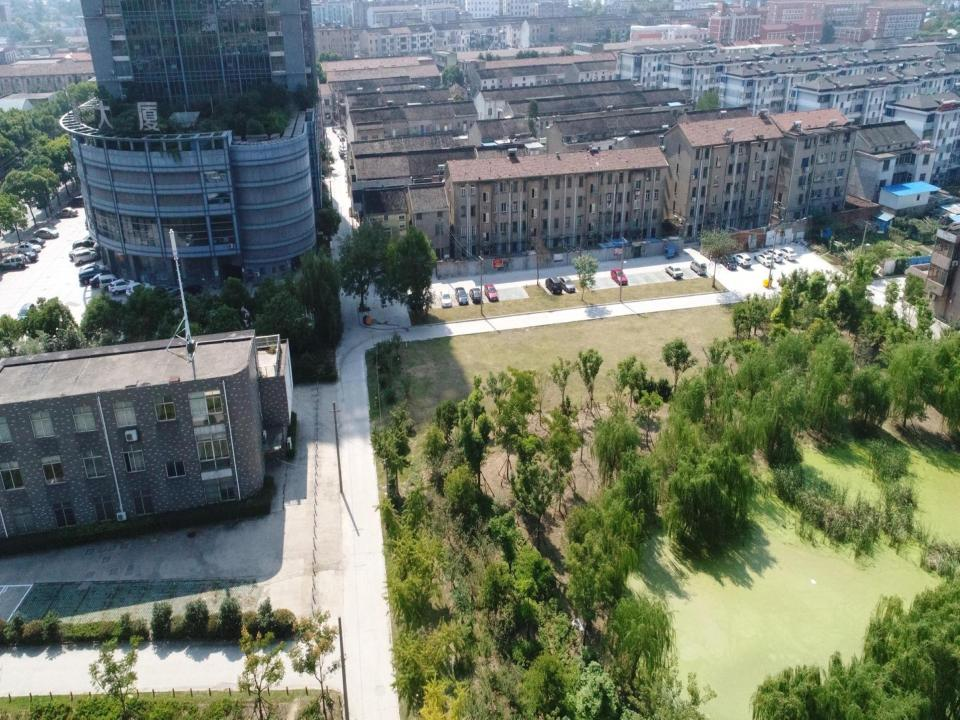car: (15, 302, 36, 330), (78, 268, 110, 284), (89, 272, 120, 288), (151, 283, 180, 300), (72, 248, 99, 264), (80, 264, 107, 280), (108, 278, 135, 294), (126, 281, 151, 297), (71, 238, 97, 253), (753, 251, 774, 268), (14, 241, 41, 254), (544, 276, 562, 294), (178, 283, 204, 295), (33, 227, 59, 239), (55, 206, 79, 219), (68, 246, 90, 260), (558, 276, 576, 293), (610, 268, 628, 285), (733, 252, 752, 268), (140, 284, 159, 299), (484, 282, 499, 300), (718, 254, 736, 269), (779, 246, 797, 261), (67, 194, 86, 208), (664, 264, 683, 278), (16, 252, 38, 264), (439, 288, 452, 308), (454, 287, 468, 305), (80, 235, 100, 247), (26, 236, 46, 248), (766, 248, 784, 261), (468, 287, 482, 303), (339, 152, 350, 160), (338, 144, 347, 152), (338, 148, 348, 154), (339, 133, 345, 142), (336, 129, 342, 137), (331, 126, 338, 132)
van: (4, 254, 27, 269), (98, 276, 120, 290), (690, 258, 706, 276)
